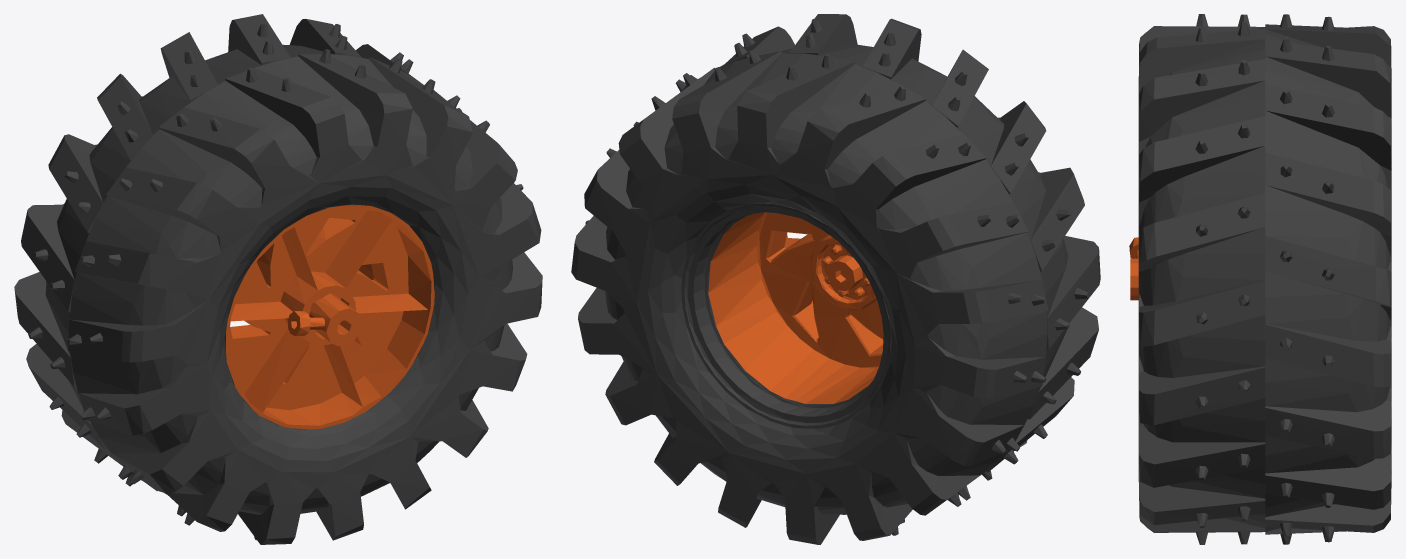
The model's file is wheel_left.dae.
The picture shows the model from 3 angles, left to right: view 1: azimuth 30°, elevation 25°; view 2: azimuth 150°, elevation 25°; view 3: azimuth 270°, elevation 25°; orthographic projection. The views are drawn at different scales.
Visible parts, largest first — view 1: wheel_left; view 2: wheel_left; view 3: wheel_left.
Part boxes in pixels (left/top/right/bottom): wheel_left: left=14, top=14, right=542, bottom=544; wheel_left: left=571, top=14, right=1100, bottom=544; wheel_left: left=1129, top=14, right=1391, bottom=544.
Bounding box in the file's own units: 0.1266 × 0.0624 × 0.1266.
